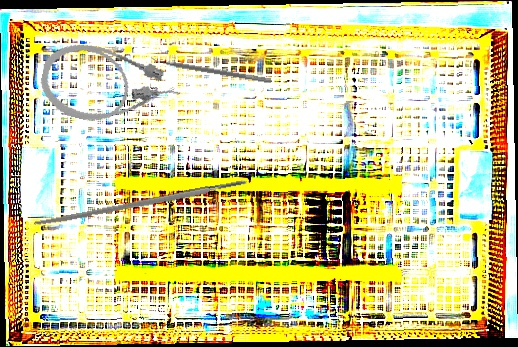Cannula: (34, 35, 186, 141)
Scalpel Handle: (33, 178, 249, 229)
Spatula Surgical: (149, 53, 273, 84)
